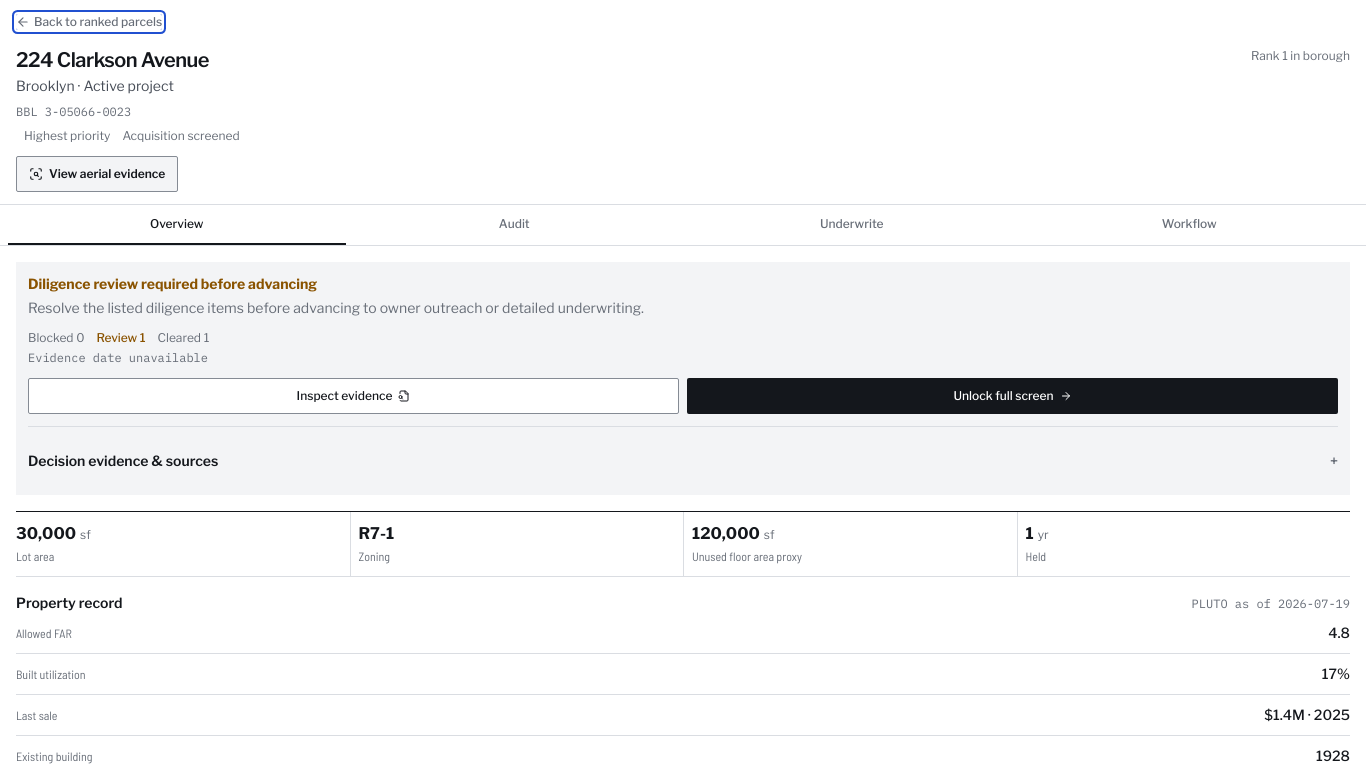
Test case: ParcelIntelPropertyPanel › separates historical model, current gates, diligence, and workflow evidence
This screenshot has width=1366, height=768.
Expected: the element with test id "parcel-decision-posture" shows "Diligence review required before advancing", [28,275,317,292]
Expected: the element with test id "parcel-decision-posture" shows "Review 1", [16,262,1350,495]
Click the button "Inspect evidence": (354, 396) [28,378,679,414]
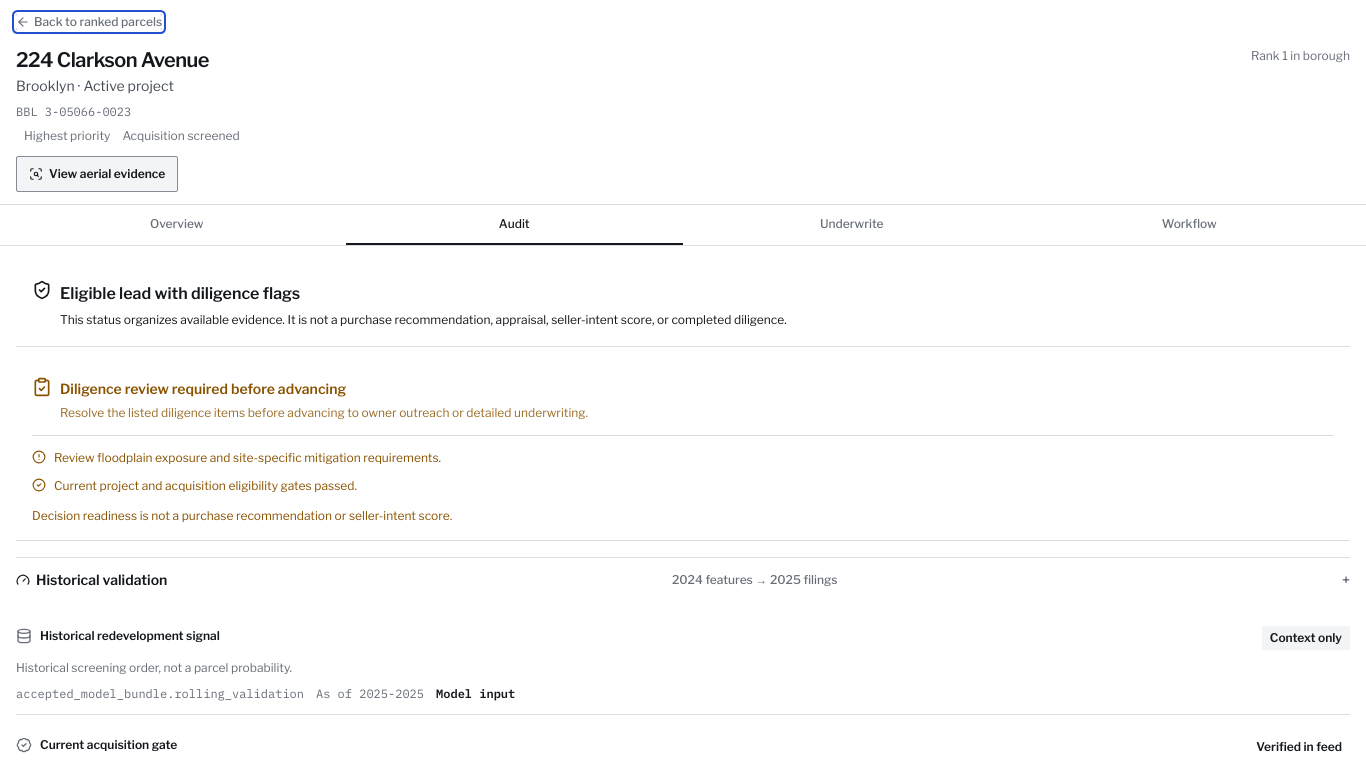
Click the text "Historical validation": (92, 580) [16,570,167,590]
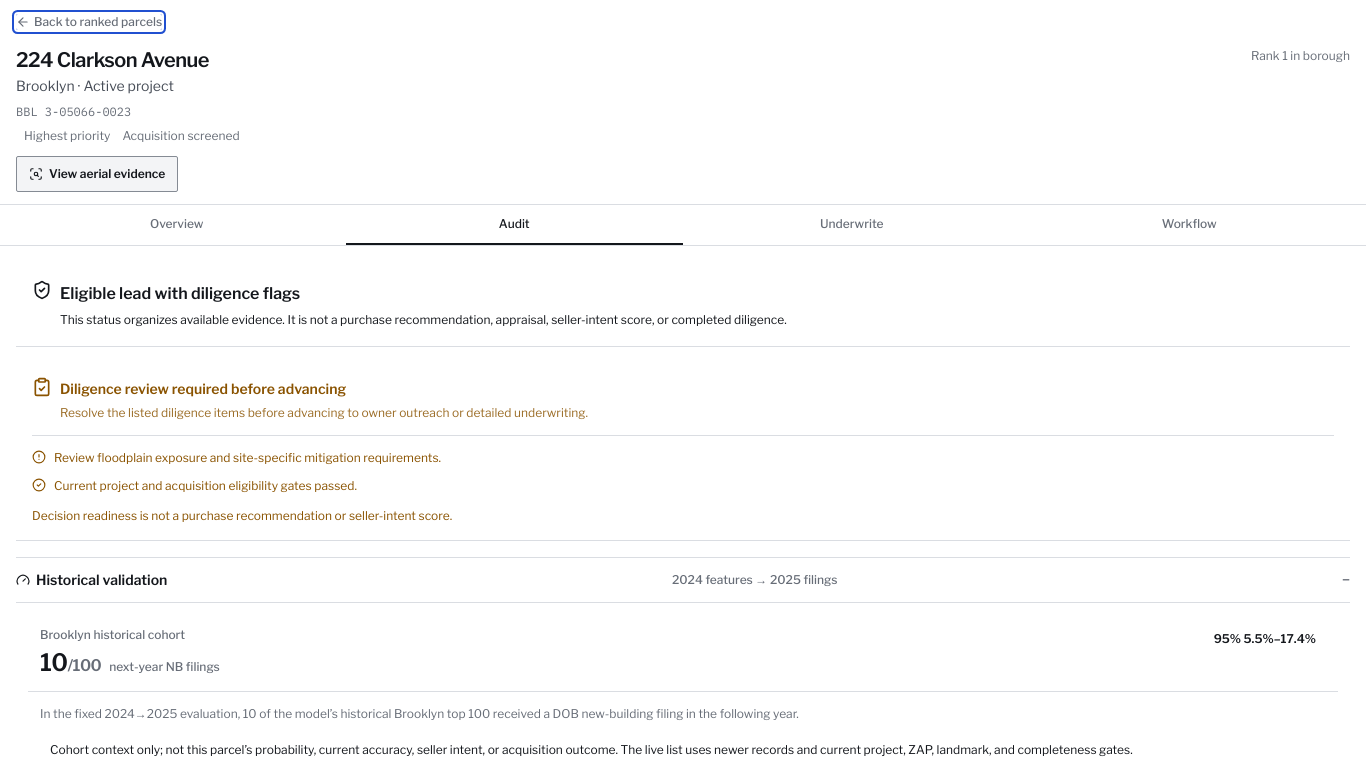
Expected: the heading "Eligible lead with diligence flags" is shown, [60,284,300,303]
Expected: the element with test id "parcel-decision-readiness" shows "Diligence review required before advancing", [60,380,346,397]
Expected: the element with test id "historical-borough-cohort" shows "not this parcel’s probability, current accuracy, seller intent, or acquisition outcome", [50,742,1133,757]
